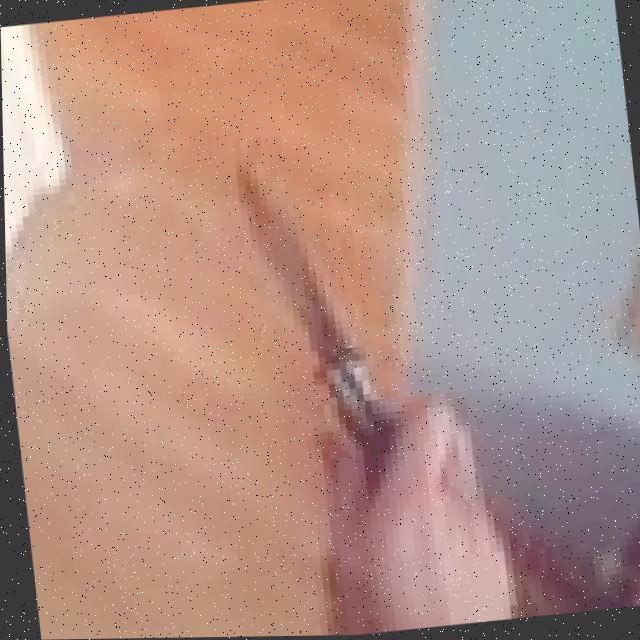knife: (230, 144, 394, 504)
